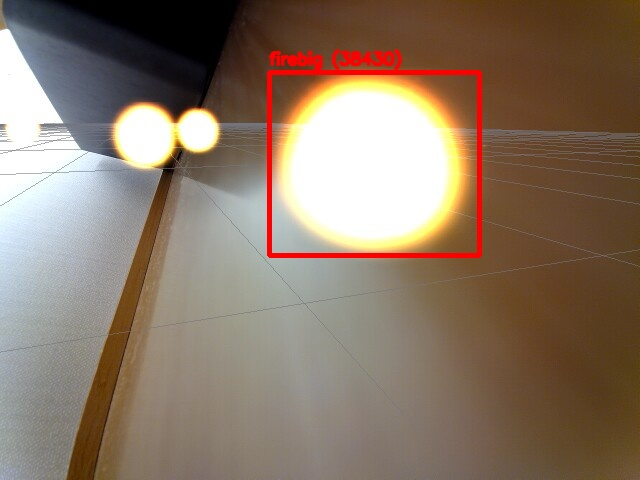firebig: (269, 72, 479, 255)
